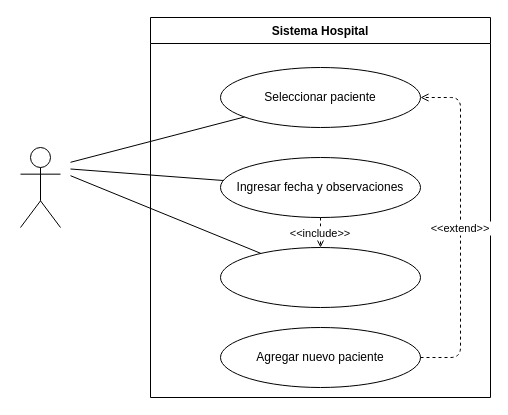
Image size: 508x415. Some labels were removed from this diagram. Each missing label, with the centre of its shape:
Guardar cita en archivo DAT: the point at 320,277
Paciente: the point at 40,187
